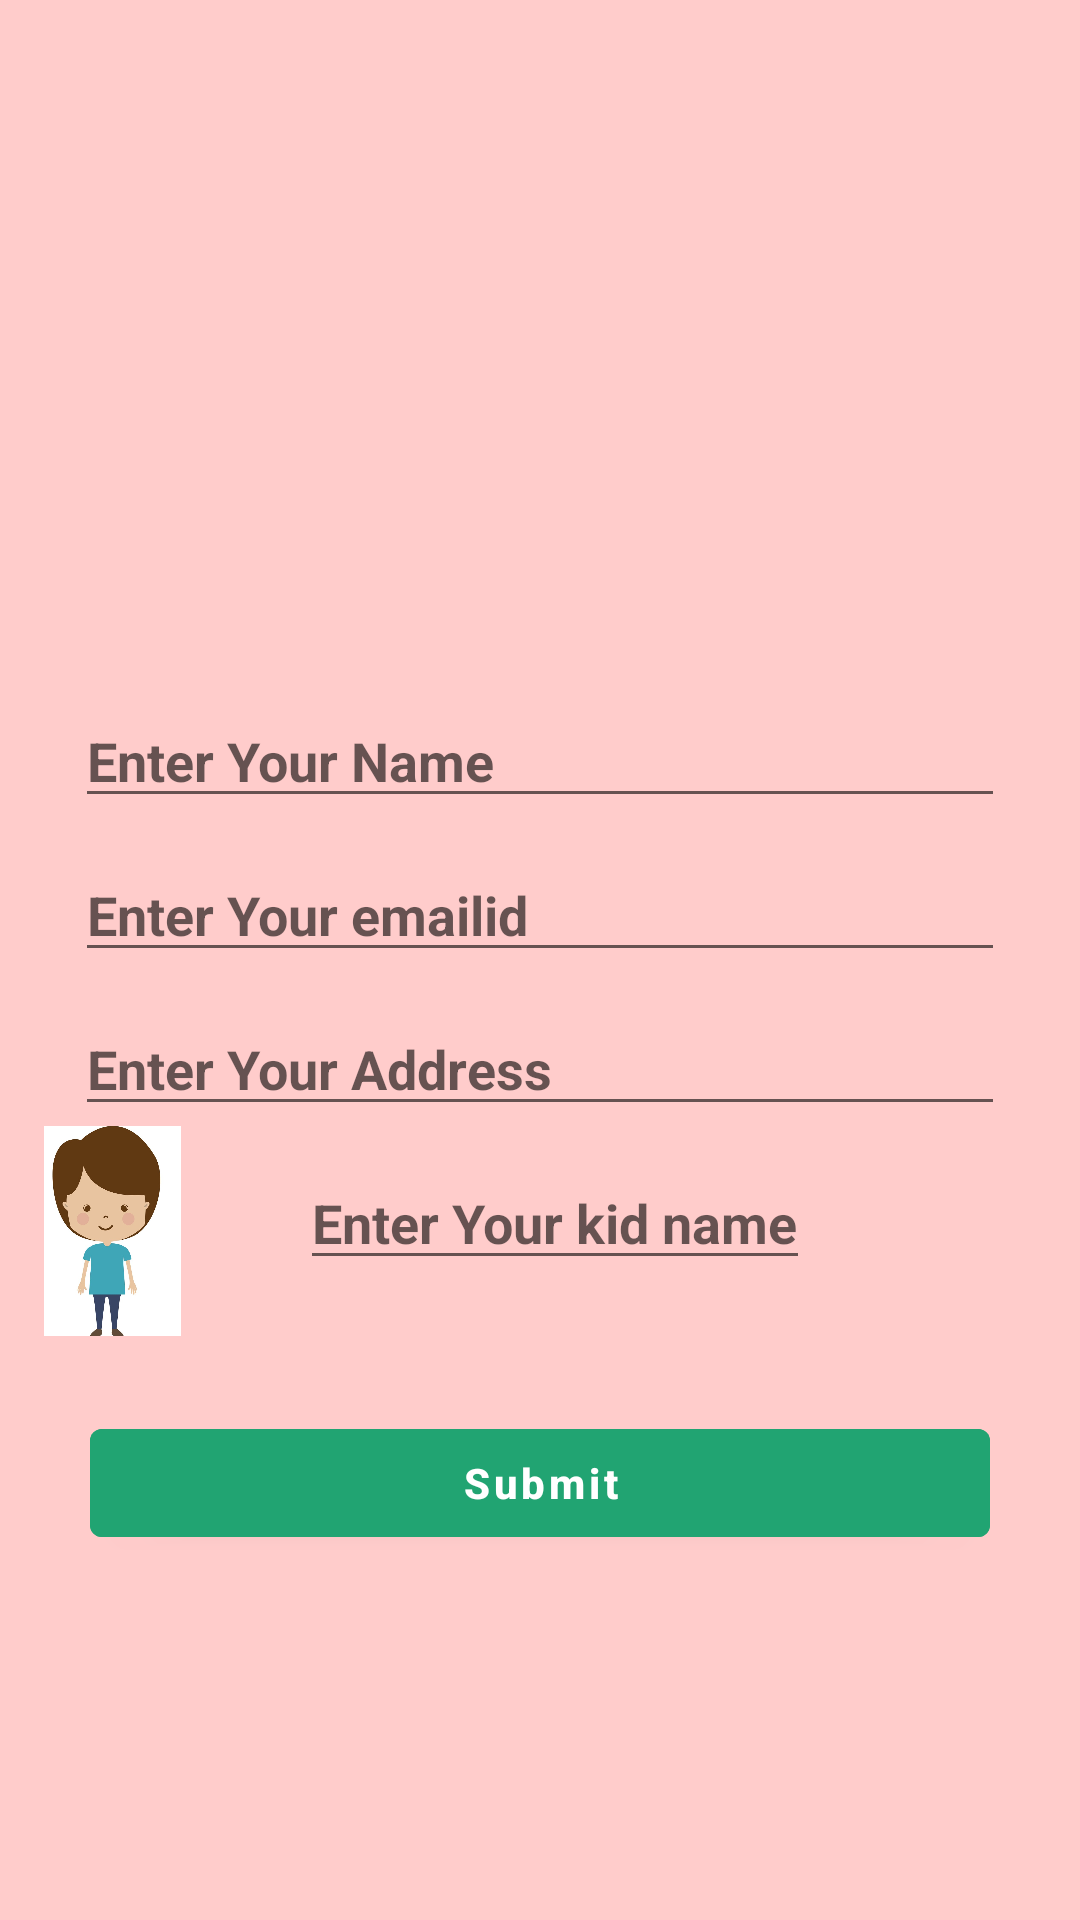

Icons on this 1080x1920 Android screen, each with the point to tap as [x,y]:
kidphoto: [112,1231]
